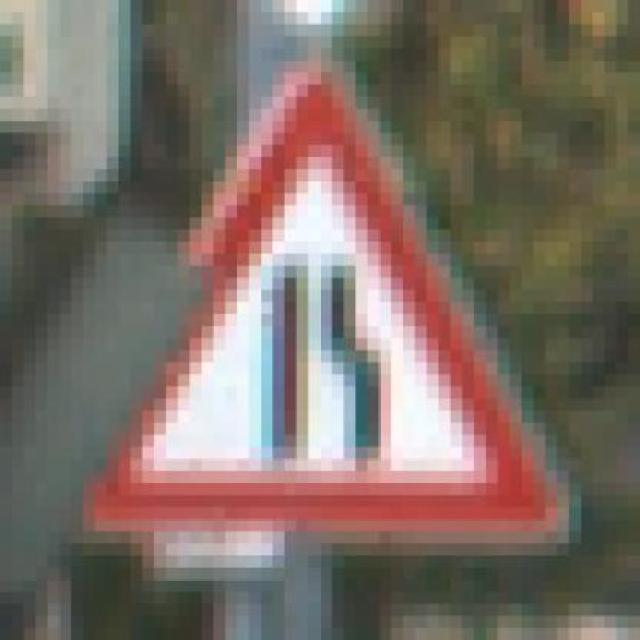-Road narrows on right: (47, 35, 593, 568)
